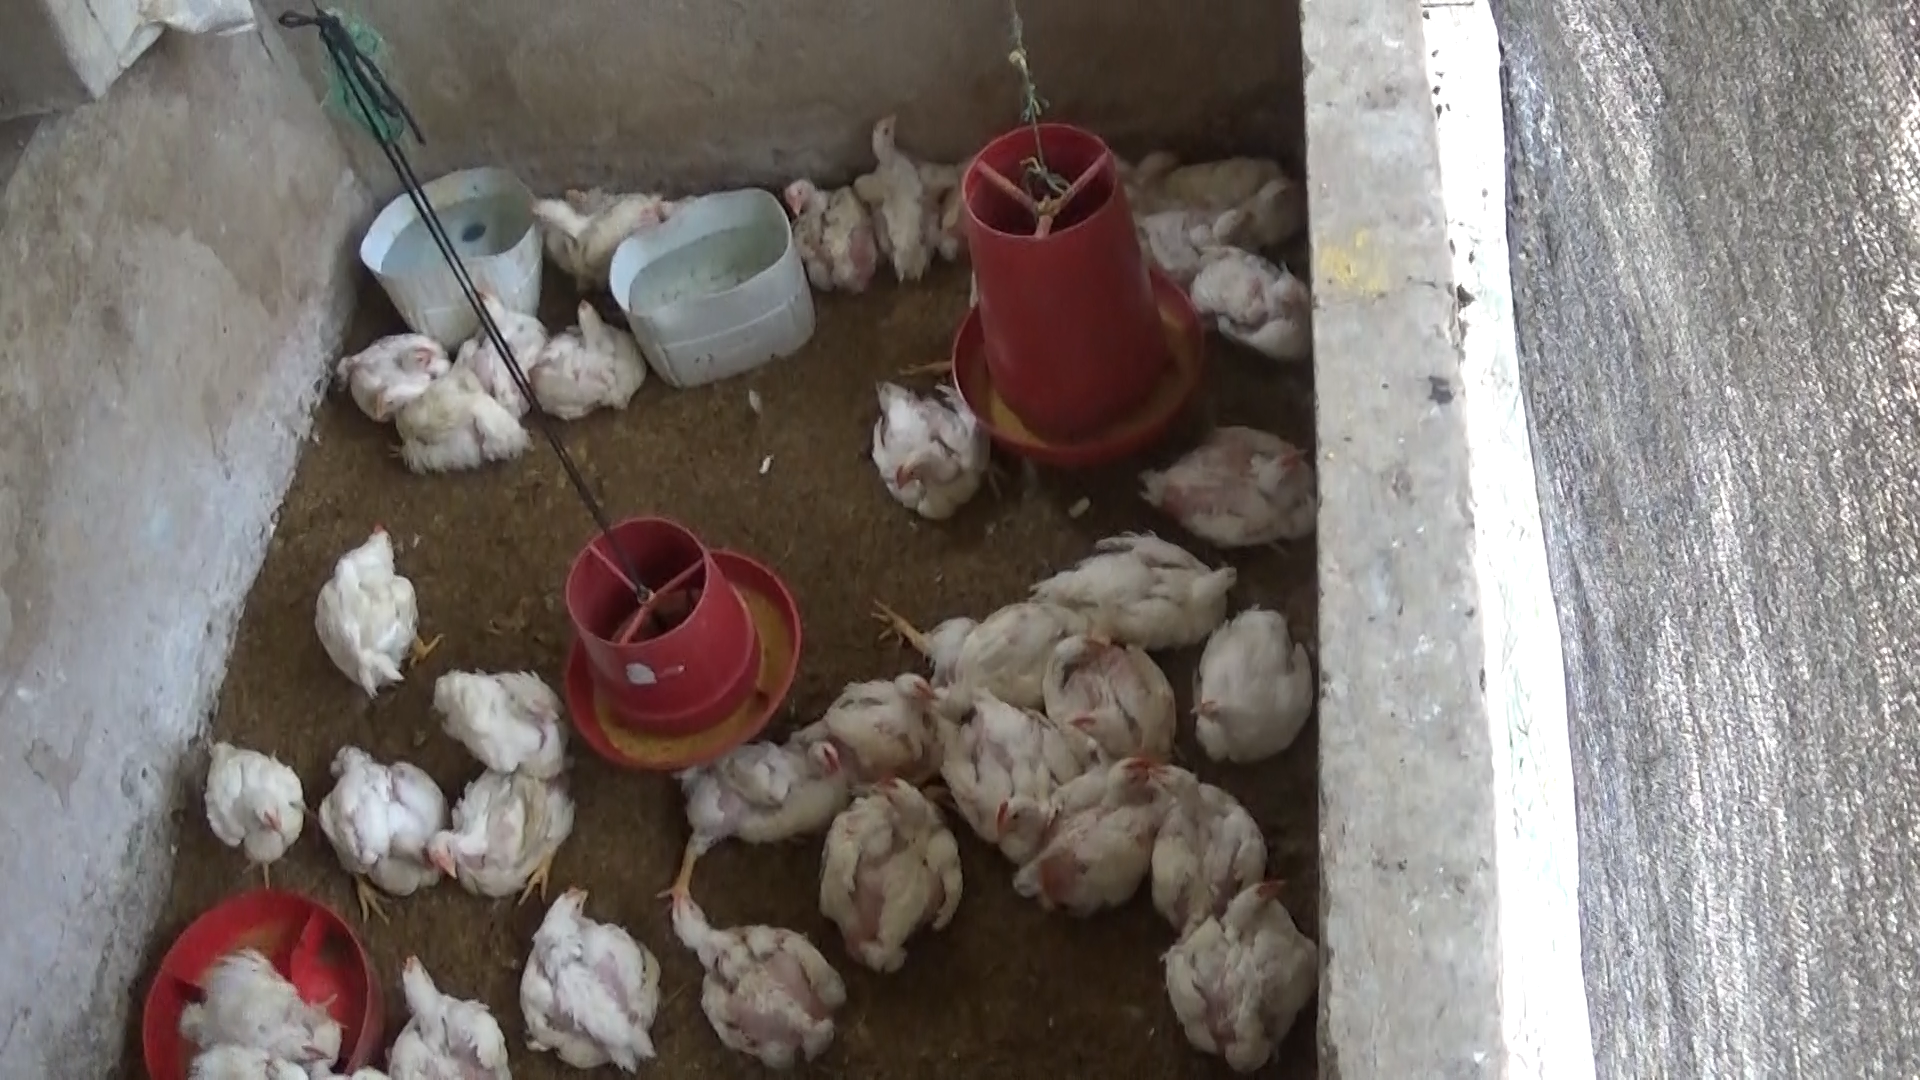Pollos: (1160, 870, 1331, 1077), (665, 887, 851, 1065), (647, 732, 843, 891), (514, 882, 667, 1069), (310, 741, 460, 926), (302, 516, 451, 694), (913, 678, 1068, 847), (828, 778, 957, 975), (1004, 746, 1156, 910), (434, 750, 568, 924), (1029, 525, 1232, 640), (864, 365, 997, 534), (1139, 762, 1275, 927), (864, 589, 1071, 698), (181, 957, 357, 1080), (1047, 617, 1185, 771), (1182, 597, 1308, 764), (1131, 417, 1305, 534), (189, 727, 314, 882), (851, 105, 956, 272), (380, 949, 512, 1080), (425, 665, 570, 779), (807, 661, 943, 781), (1130, 149, 1294, 247), (539, 295, 653, 417), (534, 177, 667, 280), (1180, 237, 1309, 343), (765, 171, 878, 291), (390, 367, 525, 464), (982, 764, 1131, 847), (323, 328, 446, 417), (440, 290, 537, 377)
